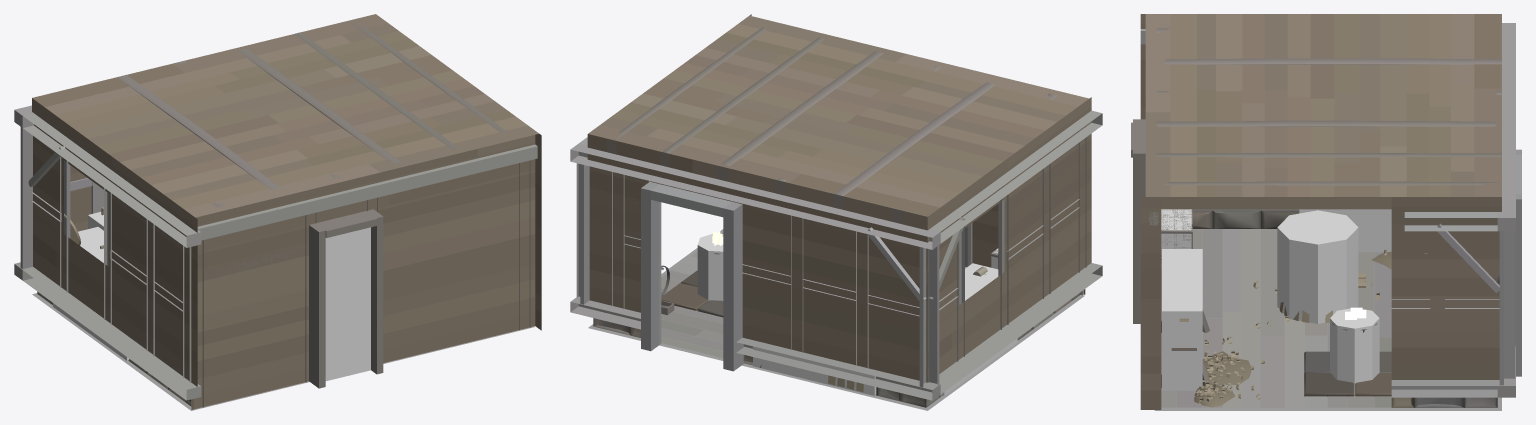
The model's file is cooperage_interior.glb.
3 renders of one model, left to right at view 1: azimuth 30°, elevation 25°; view 2: azimuth 150°, elevation 25°; view 3: azimuth 270°, elevation 25°, orthographic. The views are drawn at different scales.
Visible parts, largest first — view 1: Lining, Loft boards, Frame / tav_oak, Partition door solid, Room joinery / tav_oak, Floor / tav_soot, Heading bench solid; view 2: Lining, Loft boards, Frame / tav_oak, Floor / tav_floor, Floor / tav_soot, Cresset solid, Jointer solid, Hearth flags, Plinth inside, Heading bench solid, Frame / tav_oak_end; view 3: Loft boards, Lining, Frame / tav_oak, Floor / tav_floor, Raised cask solid, Shaving horse solid, Cresset solid, Plinth inside, Hearth flags, Floor / tav_soot, Room joinery / tav_oak, Heading bench solid (+5 smaller).
Boxes of the visible parts, x1=… form: Lining: x1=32, y1=98, x2=541, y2=409; Loft boards: x1=32, y1=14, x2=538, y2=217; Frame / tav_oak: x1=14, y1=22, x2=537, y2=409; Partition door solid: x1=325, y1=227, x2=370, y2=381; Room joinery / tav_oak: x1=309, y1=209, x2=383, y2=388; Floor / tav_soot: x1=32, y1=293, x2=534, y2=410; Heading bench solid: x1=53, y1=227, x2=129, y2=360; Lining: x1=587, y1=14, x2=1091, y2=382; Loft boards: x1=588, y1=15, x2=1088, y2=216; Frame / tav_oak: x1=570, y1=27, x2=1102, y2=400; Floor / tav_floor: x1=595, y1=232, x2=966, y2=406; Floor / tav_soot: x1=588, y1=229, x2=1084, y2=410; Cresset solid: x1=697, y1=233, x2=723, y2=300; Jointer solid: x1=753, y1=346, x2=876, y2=395; Hearth flags: x1=661, y1=270, x2=723, y2=317; Plinth inside: x1=593, y1=293, x2=1080, y2=407; Heading bench solid: x1=942, y1=263, x2=1017, y2=395; Frame / tav_oak_end: x1=606, y1=139, x2=901, y2=223; Loft boards: x1=1145, y1=14, x2=1501, y2=196; Lining: x1=1140, y1=14, x2=1501, y2=409; Frame / tav_oak: x1=1140, y1=23, x2=1521, y2=397; Floor / tav_floor: x1=1161, y1=229, x2=1391, y2=407; Raised cask solid: x1=1277, y1=210, x2=1358, y2=323; Shaving horse solid: x1=1162, y1=249, x2=1202, y2=390; Cresset solid: x1=1330, y1=308, x2=1379, y2=385; Plinth inside: x1=1192, y1=210, x2=1497, y2=407; Hearth flags: x1=1304, y1=351, x2=1391, y2=396; Floor / tav_soot: x1=1154, y1=229, x2=1501, y2=410; Room joinery / tav_oak: x1=1131, y1=119, x2=1145, y2=323; Heading bench solid: x1=1299, y1=209, x2=1391, y2=252.
Bounding box in the file's own units: 5 × 2.58 × 4.24.
